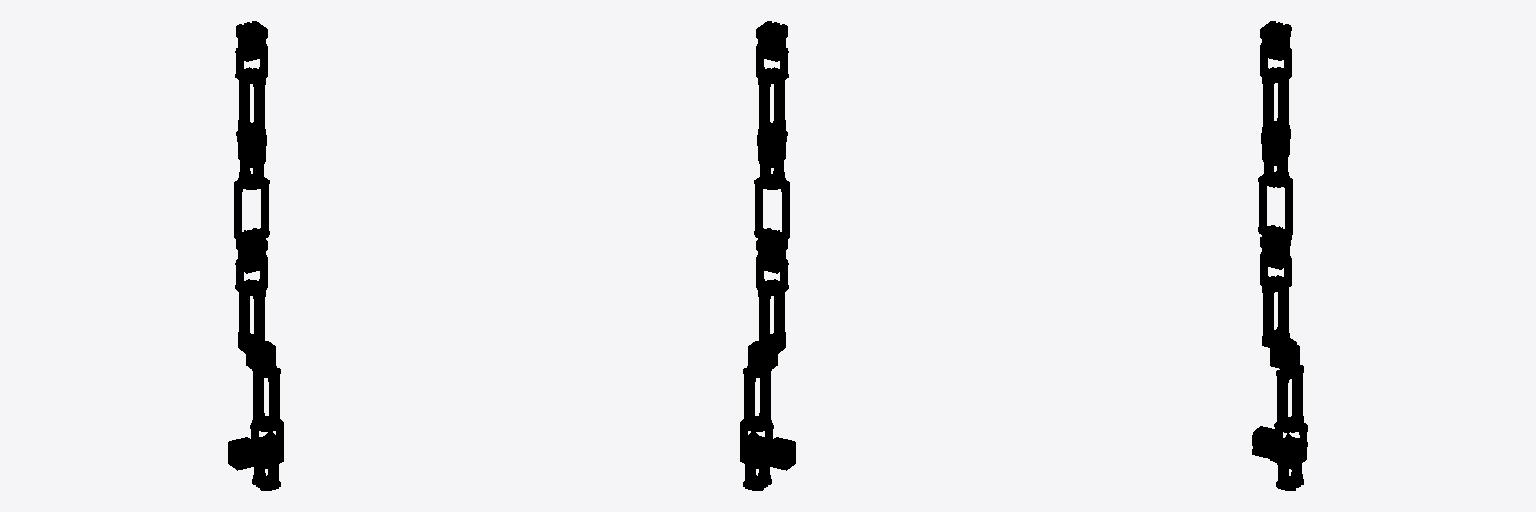
URDF robot description (arm):
<?xml version="1.0" encoding="UTF-8" ?>
<robot name="arm">
    <link name="world" />
    <joint name="base_joint" type="fixed">
        <parent link="world" />
        <child link="base_link" />
    </joint>
    <link name="base_link">
        <inertial>
            <origin xyz="1.0923e-09 -0.00036956 0.01462" rpy="0.0 -0.0 0.0" />
            <mass value="0.0075189" />
            <inertia ixx="1.0989e-06" ixy="-6.2351e-15" ixz="5.849e-14" iyy="1.1804e-06" iyz="6.6338e-09" izz="4.0321e-07" />
        </inertial>
        <visual>
            <geometry>
                <mesh filename="package://arm/meshes/base_link.dae" />
            </geometry>
            <material name="" />
            <origin xyz="0.0 0.0 0.0" rpy="0.0 -0.0 0.0" />
        </visual>
        <collision>
            <geometry>
                <mesh filename="package://arm/meshes/base_link.dae" />
            </geometry>
            <origin xyz="0.0 0.0 0.0" rpy="0.0 -0.0 0.0" />
        </collision>
    </link>
    <gazebo reference="base_link">
        <material>Gazebo/White</material>
        <plugin name="gazebo_ros_control" filename="libgazebo_ros_control.so">
            <robotNamespace>/</robotNamespace>
        </plugin>
    </gazebo>
    <link name="1st_Link">
        <inertial>
            <origin xyz="-0.015399 0.0074273 0.010446" rpy="0.0 -0.0 0.0" />
            <mass value="0.048882" />
            <inertia ixx="6.8979e-06" ixy="-2.3831e-08" ixz="1.1596e-08" iyy="6.302e-06" iyz="1.8013e-08" izz="5.3898e-06" />
        </inertial>
        <visual>
            <geometry>
                <mesh filename="package://arm/meshes/1st_Link.dae" />
            </geometry>
            <material name="" />
            <origin xyz="0.0 0.0 0.0" rpy="0.0 -0.0 0.0" />
        </visual>
        <collision>
            <geometry>
                <mesh filename="package://arm/meshes/1st_Link.dae" />
            </geometry>
            <origin xyz="0.0 0.0 0.0" rpy="0.0 -0.0 0.0" />
        </collision>
    </link>
    <gazebo reference="1st_Link">
        <material>Gazebo/White</material>
    </gazebo>
    <link name="2nd_Link">
        <inertial>
            <origin xyz="0.027763 4.3705e-15 0.05401" rpy="0.0 -0.0 0.0" />
            <mass value="0.020588" />
            <inertia ixx="7.8383e-06" ixy="1.589e-21" ixz="7.3274e-09" iyy="7.9107e-06" iyz="-1.5828e-21" izz="9.7116e-07" />
        </inertial>
        <visual>
            <geometry>
                <mesh filename="package://arm/meshes/2nd_Link.dae" />
            </geometry>
            <material name="" />
            <origin xyz="0.0 0.0 0.0" rpy="0.0 -0.0 0.0" />
        </visual>
        <collision>
            <geometry>
                <mesh filename="package://arm/meshes/2nd_Link.dae" />
            </geometry>
            <origin xyz="0.0 0.0 0.0" rpy="0.0 -0.0 0.0" />
        </collision>
    </link>
    <gazebo reference="2nd_Link">
        <material>Gazebo/White</material>
    </gazebo>
    <link name="3rd_Link">
        <inertial>
            <origin xyz="-0.014263 -4.4343e-05 0.041357" rpy="0.0 -0.0 0.0" />
            <mass value="0.046001" />
            <inertia ixx="1.0929e-05" ixy="-3.1856e-09" ixz="-1.7863e-08" iyy="1.182e-05" iyz="1.1677e-08" izz="4.515e-06" />
        </inertial>
        <visual>
            <geometry>
                <mesh filename="package://arm/meshes/3rd_Link.dae" />
            </geometry>
            <material name="" />
            <origin xyz="0.0 0.0 0.0" rpy="0.0 -0.0 0.0" />
        </visual>
        <collision>
            <geometry>
                <mesh filename="package://arm/meshes/3rd_Link.dae" />
            </geometry>
            <origin xyz="0.0 0.0 0.0" rpy="0.0 -0.0 0.0" />
        </collision>
    </link>
    <gazebo reference="3rd_Link">
        <material>Gazebo/White</material>
    </gazebo>
    <link name="4th_Link">
        <inertial>
            <origin xyz="-0.0074588 0.00010484 0.044375" rpy="0.0 -0.0 0.0" />
            <mass value="0.04603" />
            <inertia ixx="1.1483e-05" ixy="1.1677e-08" ixz="-2.1055e-08" iyy="1.15e-05" iyz="-9.849e-09" izz="3.6533e-06" />
        </inertial>
        <visual>
            <geometry>
                <mesh filename="package://arm/meshes/4th_Link.dae" />
            </geometry>
            <material name="" />
            <origin xyz="0.0 0.0 0.0" rpy="0.0 -0.0 0.0" />
        </visual>
        <collision>
            <geometry>
                <mesh filename="package://arm/meshes/4th_Link.dae" />
            </geometry>
            <origin xyz="0.0 0.0 0.0" rpy="0.0 -0.0 0.0" />
        </collision>
    </link>
    <gazebo reference="4th_Link">
        <material>Gazebo/White</material>
    </gazebo>
    <link name="5th_Link">
        <inertial>
            <origin xyz="1.65665414228744e-05 -0.00745860239072963 0.0443751106653841" rpy="0.0 -0.0 0.0" />
            <mass value="0.0460295689846967" />
            <inertia ixx="1.15001031532943e-05" ixy="-1.16770189992613e-08" ixz="-3.53768586035351e-09" iyy="1.14828431326992e-05" iyz="-2.1082723061138e-08" izz="3.6532975004842e-06" />
        </inertial>
        <visual>
            <geometry>
                <mesh filename="package://arm/meshes/5th_Link.dae" />
            </geometry>
            <material name="" />
            <origin xyz="0.0 0.0 0.0" rpy="0.0 -0.0 0.0" />
        </visual>
        <collision>
            <geometry>
                <mesh filename="package://arm/meshes/5th_Link.dae" />
            </geometry>
            <origin xyz="0.0 0.0 0.0" rpy="0.0 -0.0 0.0" />
        </collision>
    </link>
    <gazebo reference="5th_Link">
        <material>Gazebo/White</material>
    </gazebo>
    <link name="6th_Link">
        <inertial>
            <origin xyz="-0.00742594942774238 7.92049952883098e-05 0.010765199236792" rpy="0.0 -0.0 0.0" />
            <mass value="0.0256754898662028" />
            <inertia ixx="3.12264044102928e-06" ixy="1.16771992938427e-08" ixz="-2.10590464254499e-08" iyy="3.19682613445759e-06" iyz="-3.17595873109114e-09" izz="2.70646972284129e-06" />
        </inertial>
        <visual>
            <geometry>
                <mesh filename="package://arm/meshes/6th_Link.dae" />
            </geometry>
            <material name="" />
            <origin xyz="0.0 0.0 0.0" rpy="0.0 -0.0 0.0" />
        </visual>
        <collision>
            <geometry>
                <mesh filename="package://arm/meshes/6th_Link.dae" />
            </geometry>
            <origin xyz="0.0 0.0 0.0" rpy="0.0 -0.0 0.0" />
        </collision>
    </link>
    <gazebo reference="6th_Link">
        <material>Gazebo/White</material>
    </gazebo>
    <joint name="joint1" type="revolute">
        <limit effort="0.48" velocity="6.55" lower="-2.35" upper="2.35" />
        <parent link="base_link" />
        <child link="1st_Link" />
        <axis xyz="0. 1. 0." />
        <origin xyz="0.0 -0.0075 0.038" rpy="0.0 -0.0 0.0" />
    </joint>
    <joint name="joint2" type="revolute">
        <limit effort="0.48" velocity="6.55" lower="-2.35" upper="2.35" />
        <parent link="1st_Link" />
        <child link="2nd_Link" />
        <axis xyz="-1.  0.  0." />
        <origin xyz="-0.0275 0.0075 0.021" rpy="0.0 -0.0 0.0" />
    </joint>
    <joint name="joint3" type="revolute">
        <limit effort="0.48" velocity="6.55" lower="-2.35" upper="2.35" />
        <parent link="2nd_Link" />
        <child link="3rd_Link" />
        <axis xyz="0. 0. 1." />
        <origin xyz="0.0275 0.0 0.112" rpy="0.0 -0.0 0.0" />
    </joint>
    <joint name="joint4" type="revolute">
        <limit effort="0.48" velocity="6.55" lower="-2.35" upper="2.35" />
        <parent link="3rd_Link" />
        <child link="4th_Link" />
        <axis xyz="-1.  0.  0." />
        <origin xyz="-0.0135 0.0 0.139" rpy="0.0 -0.0 0.0" />
    </joint>
    <joint name="joint5" type="revolute">
        <limit effort="0.48" velocity="6.55" lower="-2.35" upper="2.35" />
        <parent link="4th_Link" />
        <child link="5th_Link" />
        <axis xyz=" 0. -1.  0." />
        <origin xyz="-0.0075 0.0075005 0.145" rpy="0.0 -0.0 0.0" />
    </joint>
    <joint name="joint6" type="revolute">
        <limit effort="0.48" velocity="6.55" lower="-2.35" upper="2.35" />
        <parent link="5th_Link" />
        <child link="6th_Link" />
        <axis xyz="-1.000e+00  0.000e+00  1.155e-05" />
        <origin xyz="0.0075017 -0.0074995 0.145" rpy="0.0 -0.0 0.0" />
    </joint>
    <material name="">
        <color rgba="0.29804 0.29804 0.29804 1.     " />
    </material>
    <transmission name="trans_joint1">
        <type>transmission_interface/SimpleTransmission</type>
        <joint name="joint1">
            <hardwareInterface>hardware_interface/EffortJointInterface</hardwareInterface>
        </joint>
        <actuator name="joint1_motor">
            <hardwareInterface>hardware_interface/EffortJointInterface</hardwareInterface>
            <mechanicalReduction>1</mechanicalReduction>
        </actuator>
    </transmission>
    <transmission name="trans_joint2">
        <type>transmission_interface/SimpleTransmission</type>
        <joint name="joint2">
            <hardwareInterface>hardware_interface/EffortJointInterface</hardwareInterface>
        </joint>
        <actuator name="joint2_motor">
            <hardwareInterface>hardware_interface/EffortJointInterface</hardwareInterface>
            <mechanicalReduction>1</mechanicalReduction>
        </actuator>
    </transmission>
    <transmission name="trans_joint3">
        <type>transmission_interface/SimpleTransmission</type>
        <joint name="joint3">
            <hardwareInterface>hardware_interface/EffortJointInterface</hardwareInterface>
        </joint>
        <actuator name="joint3_motor">
            <hardwareInterface>hardware_interface/EffortJointInterface</hardwareInterface>
            <mechanicalReduction>1</mechanicalReduction>
        </actuator>
    </transmission>
    <transmission name="trans_joint4">
        <type>transmission_interface/SimpleTransmission</type>
        <joint name="joint4">
            <hardwareInterface>hardware_interface/EffortJointInterface</hardwareInterface>
        </joint>
        <actuator name="joint4_motor">
            <hardwareInterface>hardware_interface/EffortJointInterface</hardwareInterface>
            <mechanicalReduction>1</mechanicalReduction>
        </actuator>
    </transmission>
    <transmission name="trans_joint5">
        <type>transmission_interface/SimpleTransmission</type>
        <joint name="joint5">
            <hardwareInterface>hardware_interface/EffortJointInterface</hardwareInterface>
        </joint>
        <actuator name="joint5_motor">
            <hardwareInterface>hardware_interface/EffortJointInterface</hardwareInterface>
            <mechanicalReduction>1</mechanicalReduction>
        </actuator>
    </transmission>
    <transmission name="trans_joint6">
        <type>transmission_interface/SimpleTransmission</type>
        <joint name="joint6">
            <hardwareInterface>hardware_interface/EffortJointInterface</hardwareInterface>
        </joint>
        <actuator name="joint6_motor">
            <hardwareInterface>hardware_interface/EffortJointInterface</hardwareInterface>
            <mechanicalReduction>1</mechanicalReduction>
        </actuator>
    </transmission>
    <gazebo>
        <plugin name="control_ros_control" filename="libgazebo_ros_control.so">
            <robotNamespace>/arm</robotNamespace>
            <robotSimType>gazebo_ros_control/DefaultRobotHWSim</robotSimType>
            <legacyModeNS>true</legacyModeNS>
        </plugin>
    </gazebo>
</robot>

--- Facts derived from the render (not from the file) ---
Views: 3 orthographic renders of the robot side by side, from view 1: azimuth 30°, elevation 25°; view 2: azimuth 150°, elevation 25°; view 3: azimuth 330°, elevation 25°.
Model arm with 8 links and 7 joints (6 revolute, 1 fixed), rooted at world, posed every joint at zero.
Links seen in each view (by area): view 1: 5th_Link, 3rd_Link, 4th_Link, 2nd_Link, 1st_Link, 6th_Link, base_link; view 2: 5th_Link, 3rd_Link, 4th_Link, 2nd_Link, 1st_Link, 6th_Link, base_link; view 3: 3rd_Link, 5th_Link, 4th_Link, 2nd_Link, 1st_Link, 6th_Link, base_link.
Link boxes in pixels (x1,y1,x2,y2): 5th_Link: [235, 44, 267, 167]; 3rd_Link: [235, 255, 275, 371]; 4th_Link: [234, 155, 269, 273]; 2nd_Link: [250, 366, 283, 449]; 1st_Link: [228, 432, 283, 470]; 6th_Link: [236, 21, 267, 61]; base_link: [252, 456, 280, 490]; 5th_Link: [756, 44, 788, 167]; 3rd_Link: [748, 255, 788, 371]; 4th_Link: [754, 155, 789, 273]; 2nd_Link: [740, 366, 773, 449]; 1st_Link: [740, 432, 795, 470]; 6th_Link: [756, 21, 787, 61]; base_link: [743, 456, 771, 490]; 3rd_Link: [1260, 252, 1299, 370]; 5th_Link: [1260, 43, 1291, 165]; 4th_Link: [1258, 153, 1292, 269]; 2nd_Link: [1274, 365, 1307, 451]; 1st_Link: [1252, 426, 1306, 469]; 6th_Link: [1260, 21, 1291, 60]; base_link: [1276, 457, 1303, 490].
Size in the robot's own frame: 0.0725 by 0.043 by 0.633 metres.
7 mesh visuals loaded from 7 distinct referenced files (7 Collada DAE).
